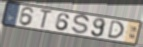6: (19, 6, 35, 27), (55, 13, 71, 31)
9: (90, 17, 107, 38)
D: (107, 20, 125, 40)
S: (70, 15, 91, 36)
T: (39, 8, 54, 29)
